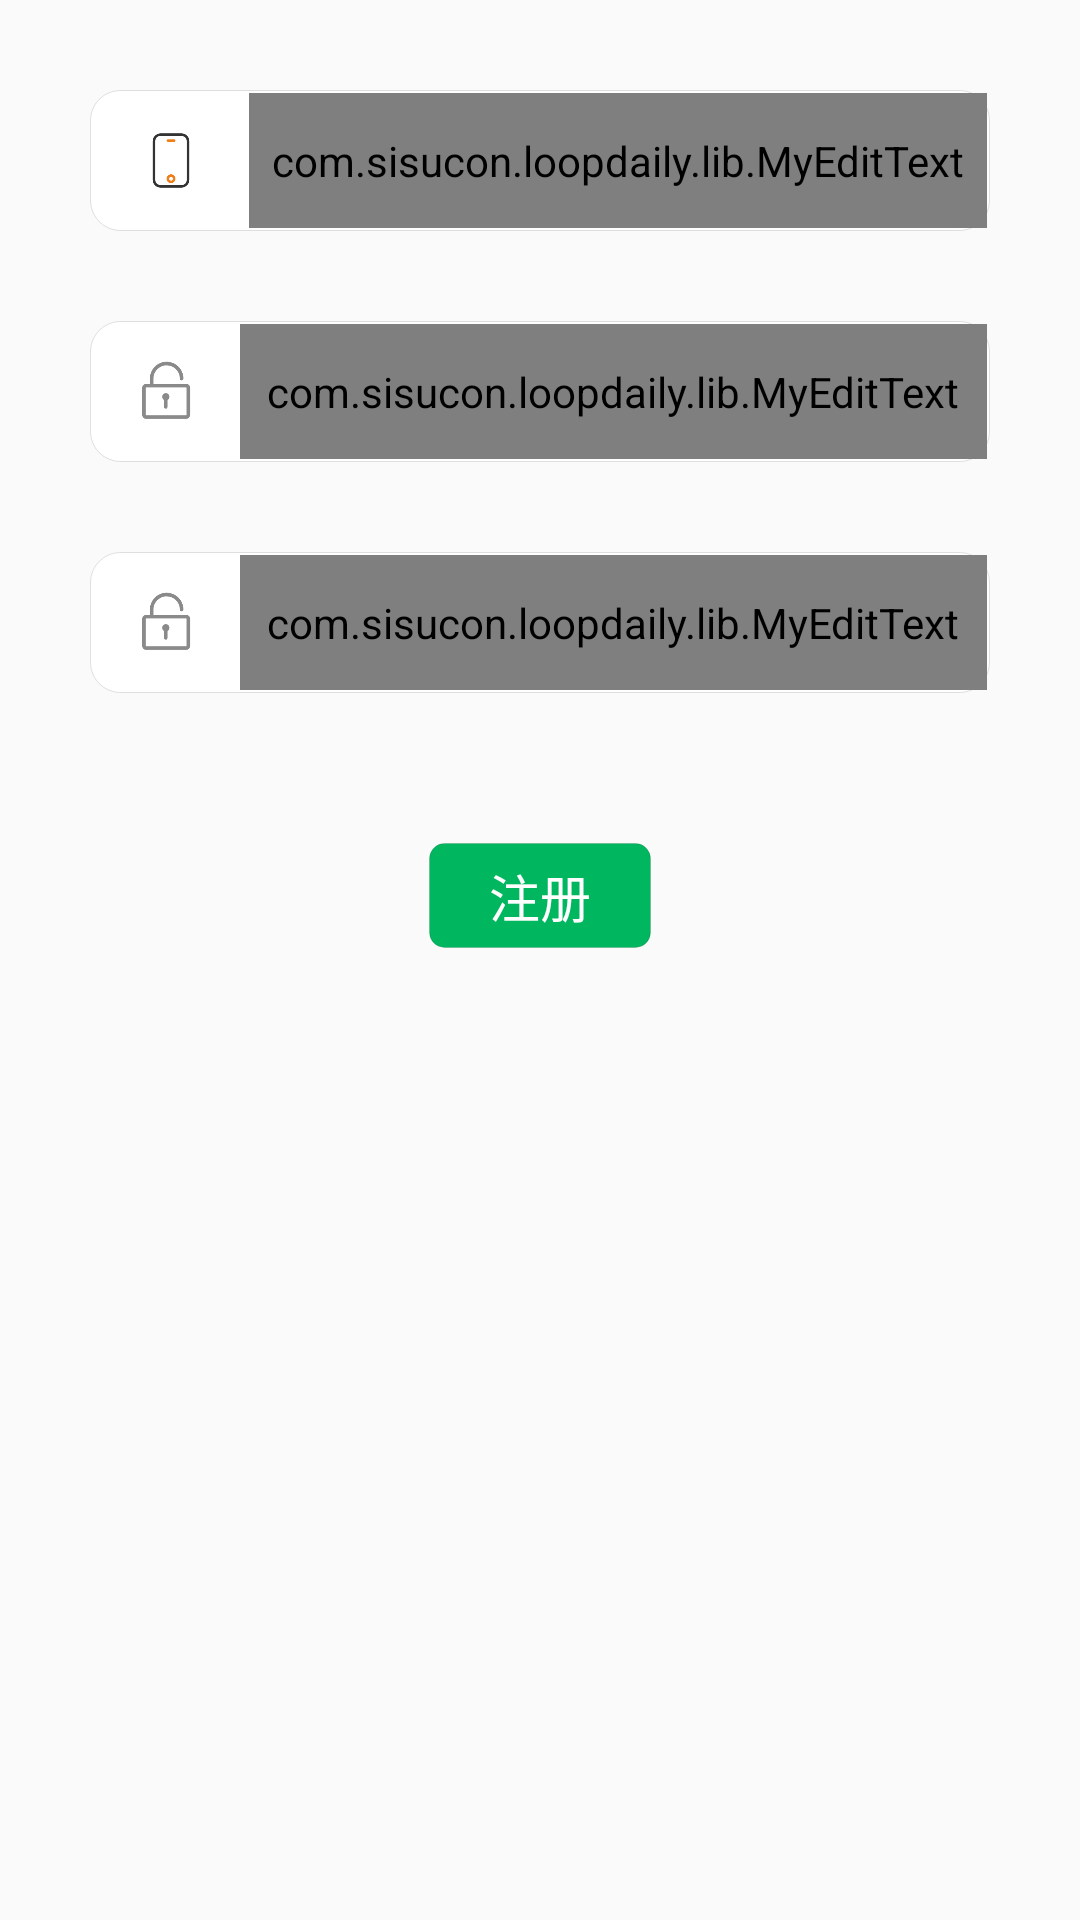

Named icons in this screenshot (1080px x 1920px) and their centers, point (x, y):
password: point (166, 390), point (166, 621)
phone: point (171, 160)
